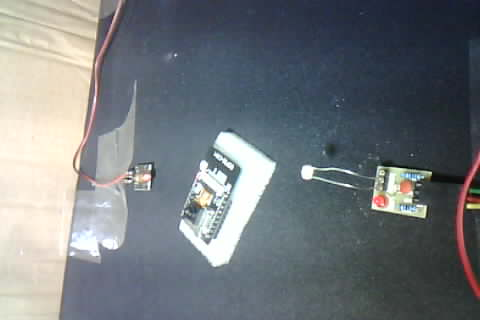esp32: (175, 129, 272, 265)
